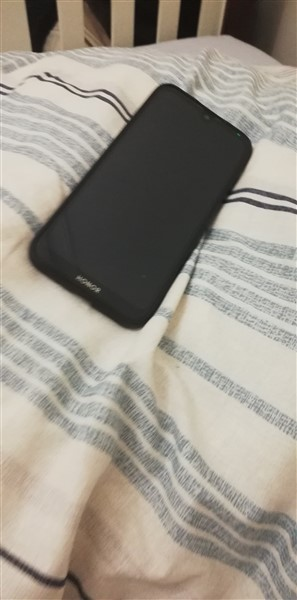telefon: (26, 78, 257, 347)
